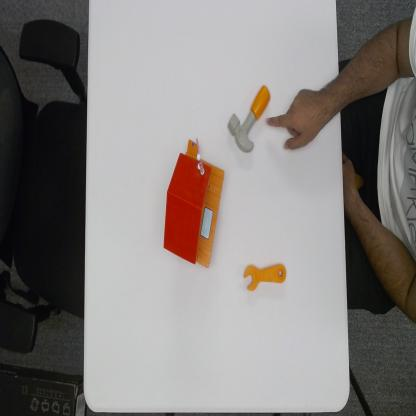Arm: (322, 36, 388, 123)
Hammer: (226, 80, 270, 154)
Hand: (266, 86, 326, 155)
House: (162, 136, 224, 272)
Screwdriver: (242, 259, 290, 297)
